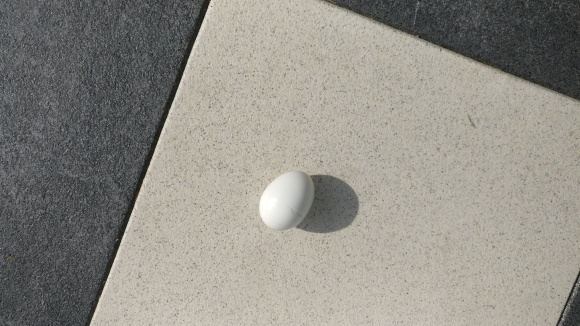egg: (258, 170, 314, 232)
